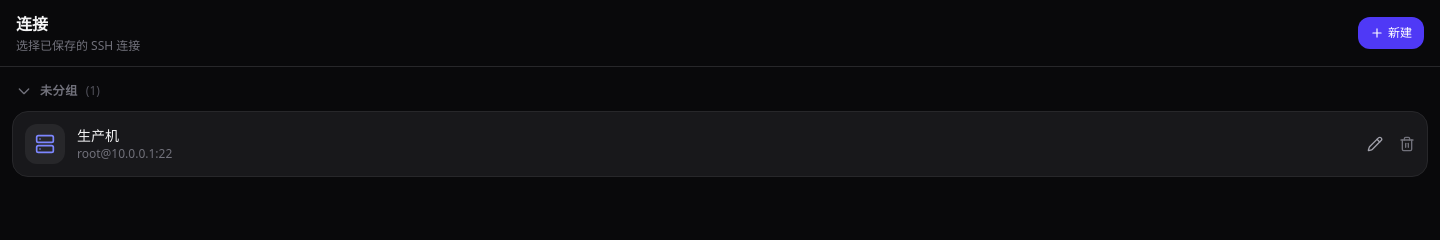
Test: 密钥链写入失败要出声 › 密码没能保存：连接照常进行，红条说明这次没记住
The width and height of the screenshot is (1440, 240).
Click the button "生产机 root@10.0.0.1:22" at coordinates (45, 144), box [13,112,1359,176]
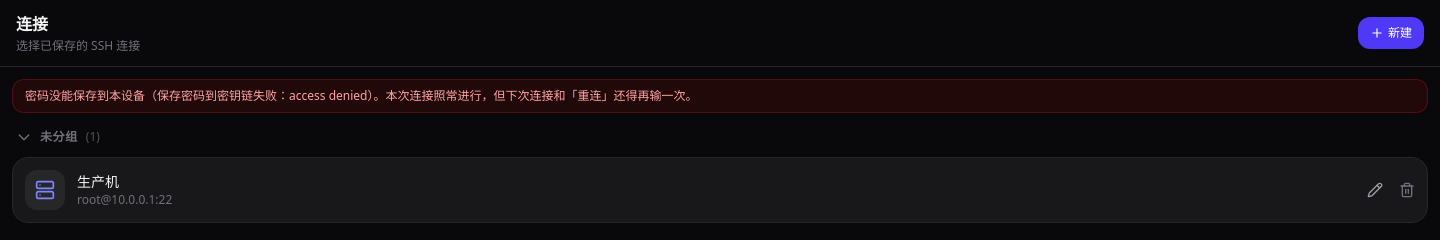
Now the text "access denied" is shown, box [25,87,698,104]
Now the text "下次连接" is shown, box [25,87,698,104]
